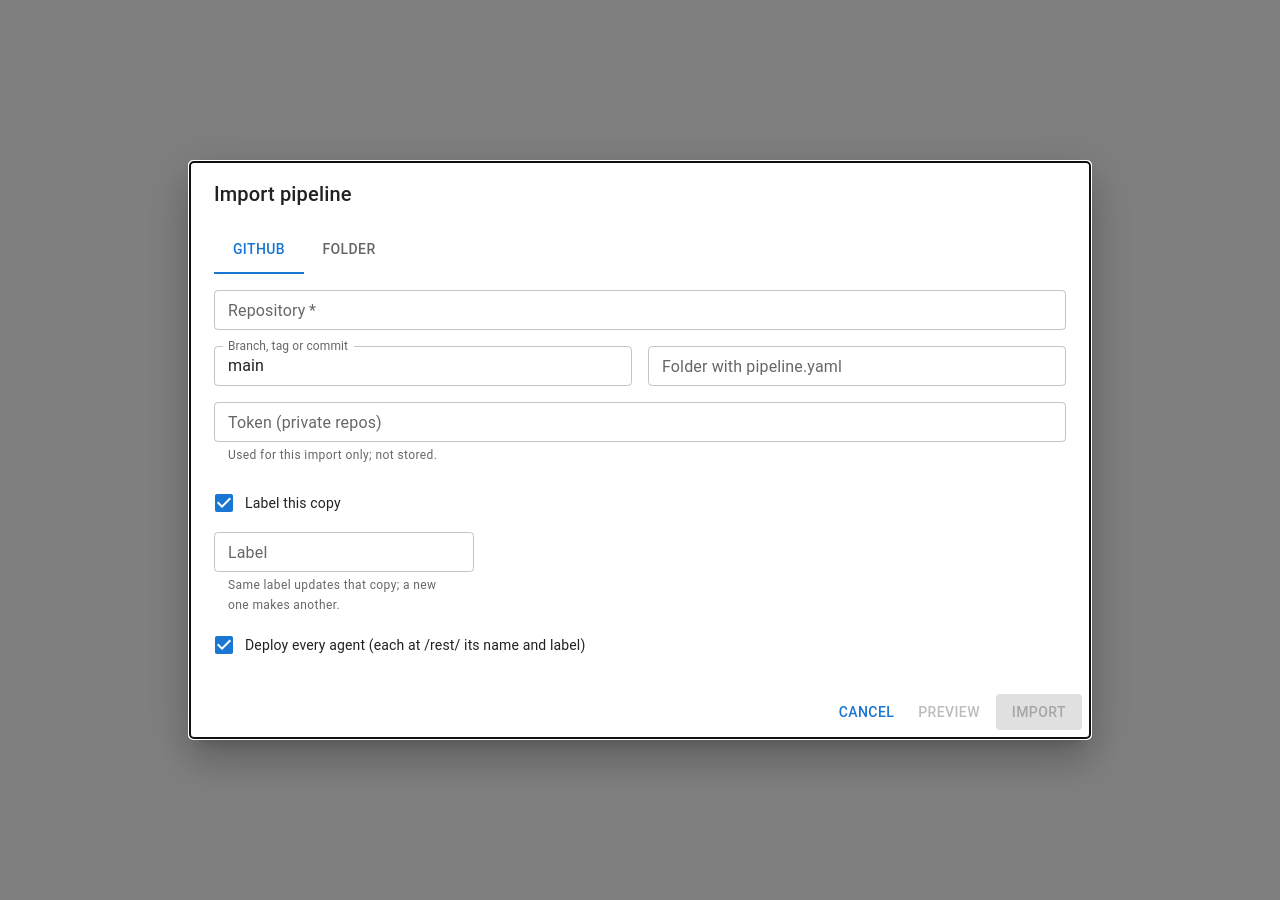
Test: PipelineImportDialog › unticking the label imports into the stable copy
Later steps or results of the test are not shown.
Expected: the checkbox labelled "Label this copy" is checked, x1=212 y1=491 x2=341 y2=515
In the field labelled "Label": [344, 552] box x1=214 y1=532 x2=474 y2=572, type "typed"
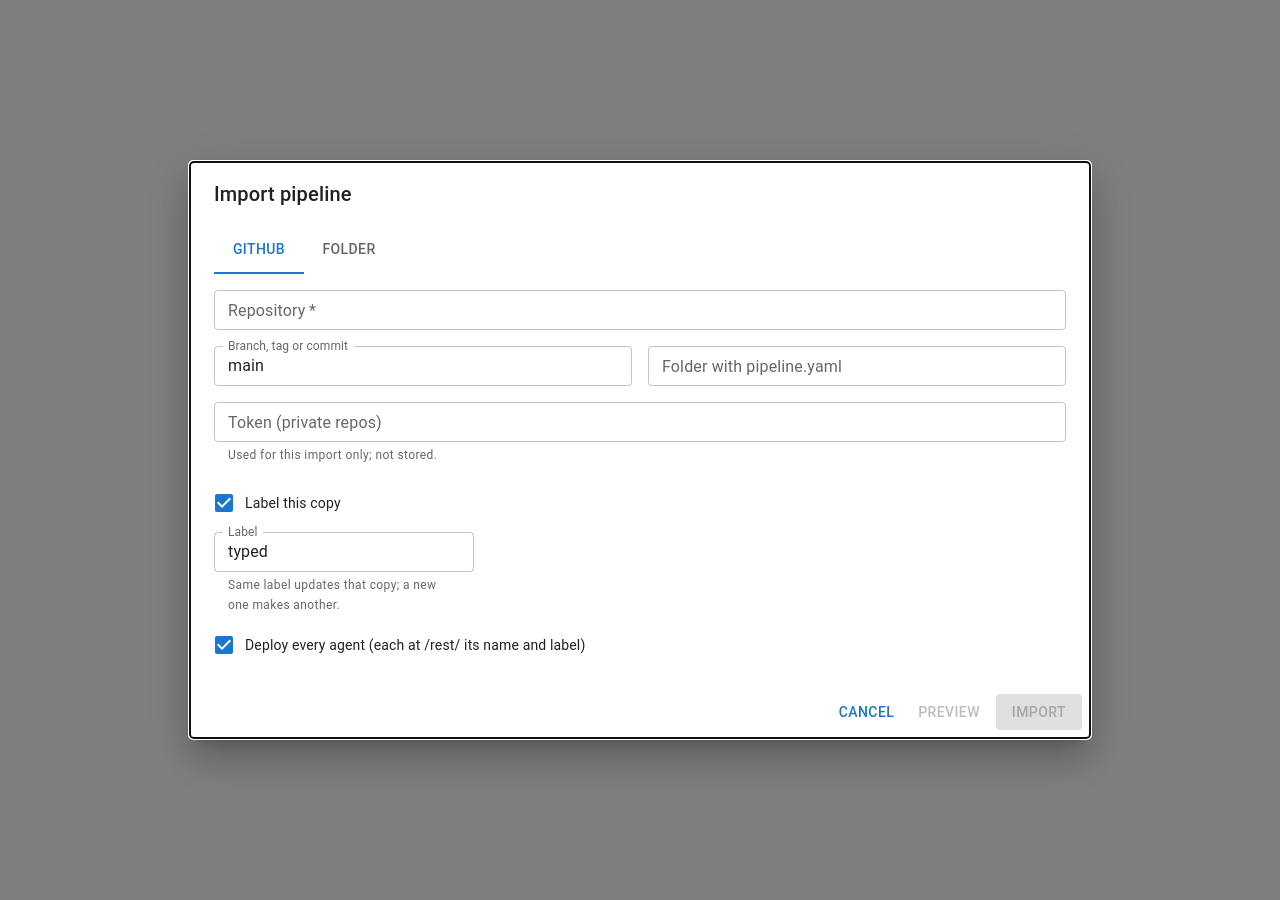
Click the checkbox labelled "Label this copy": [276, 503] box x1=212 y1=491 x2=341 y2=515
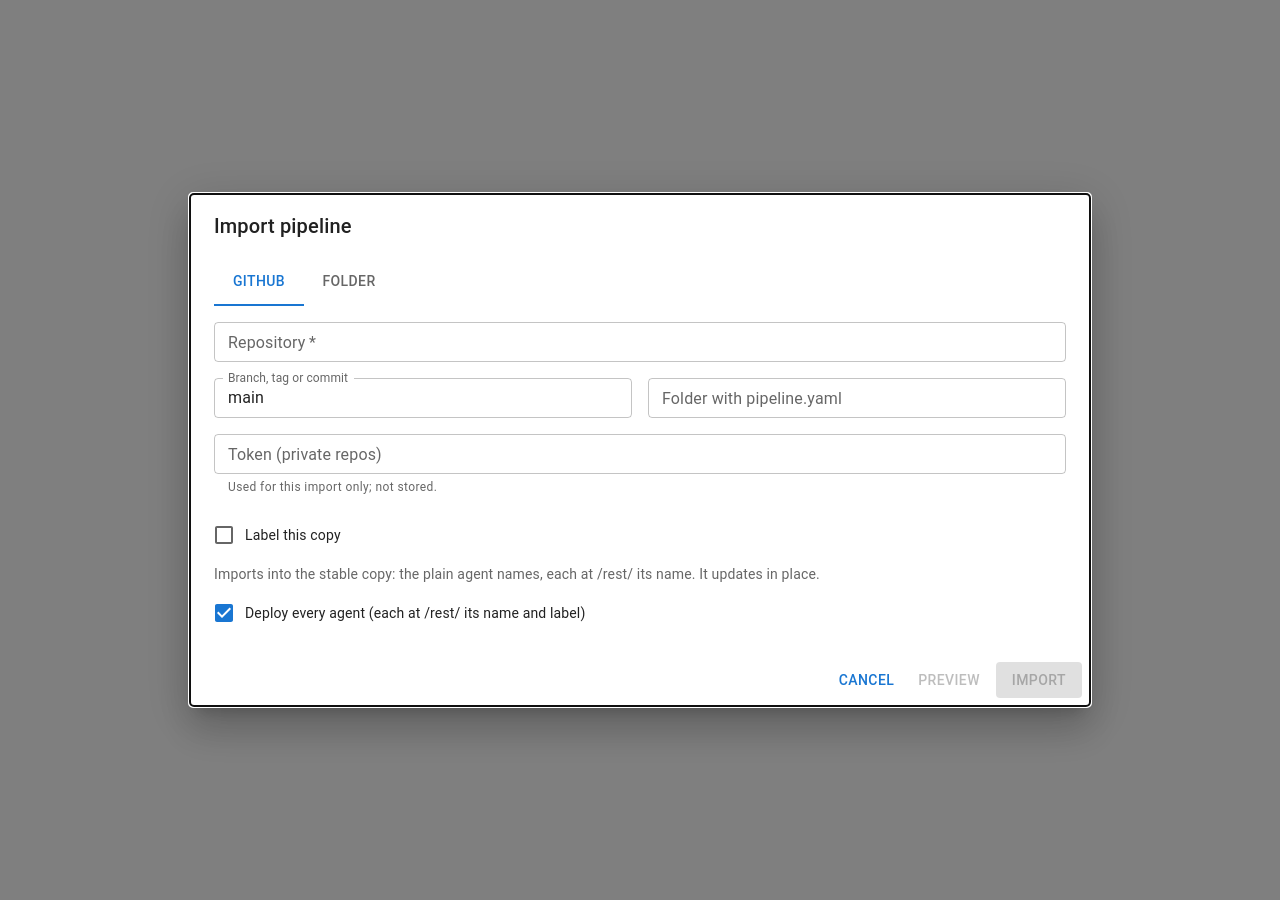
Expected: the text "Imports into the stable copy" is shown, x1=214 y1=566 x2=820 y2=582
In the field labelled "Repository *": [640, 342] box x1=214 y1=322 x2=1066 y2=362, type "a/b"
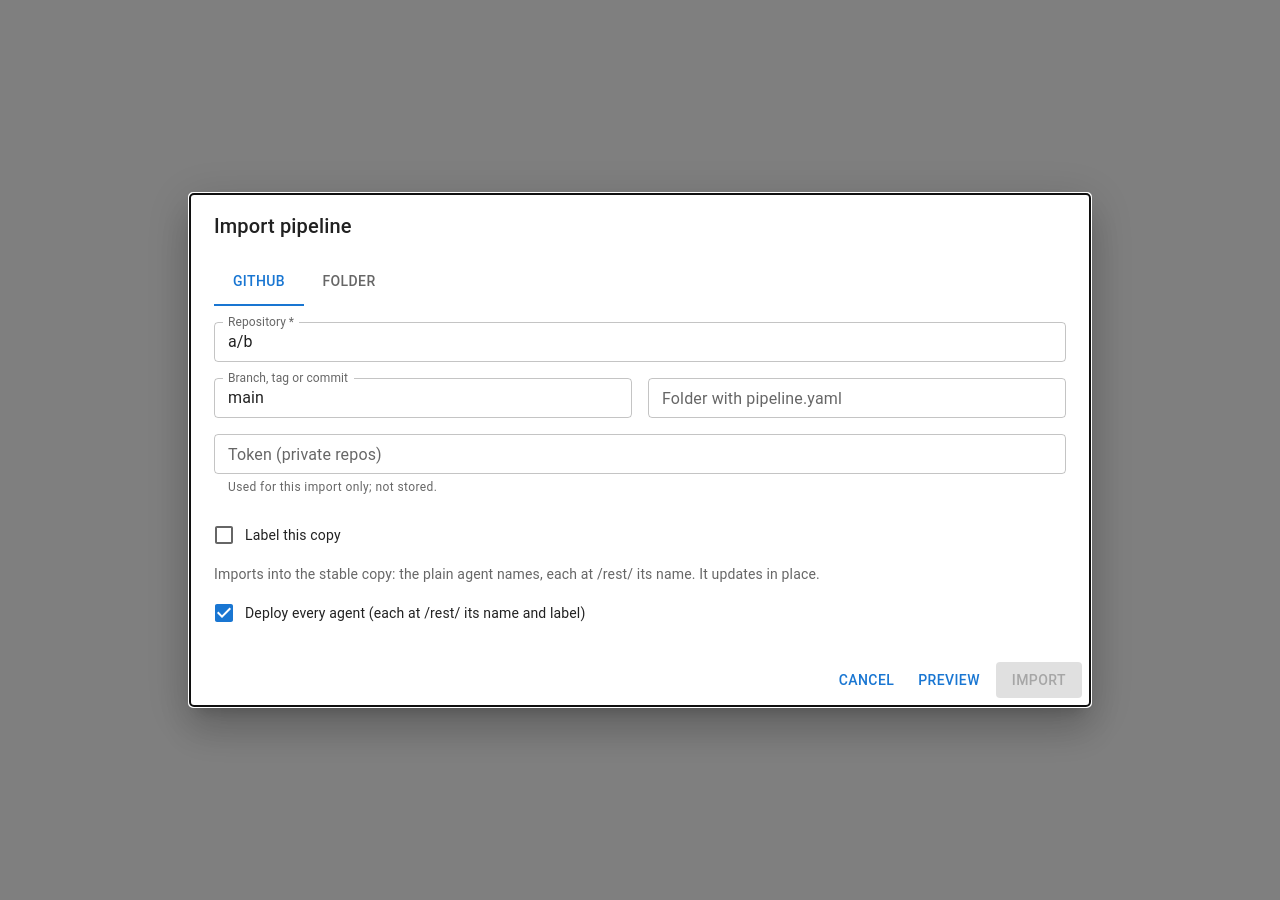
Click the button "Preview": [949, 680] box x1=910 y1=662 x2=988 y2=698
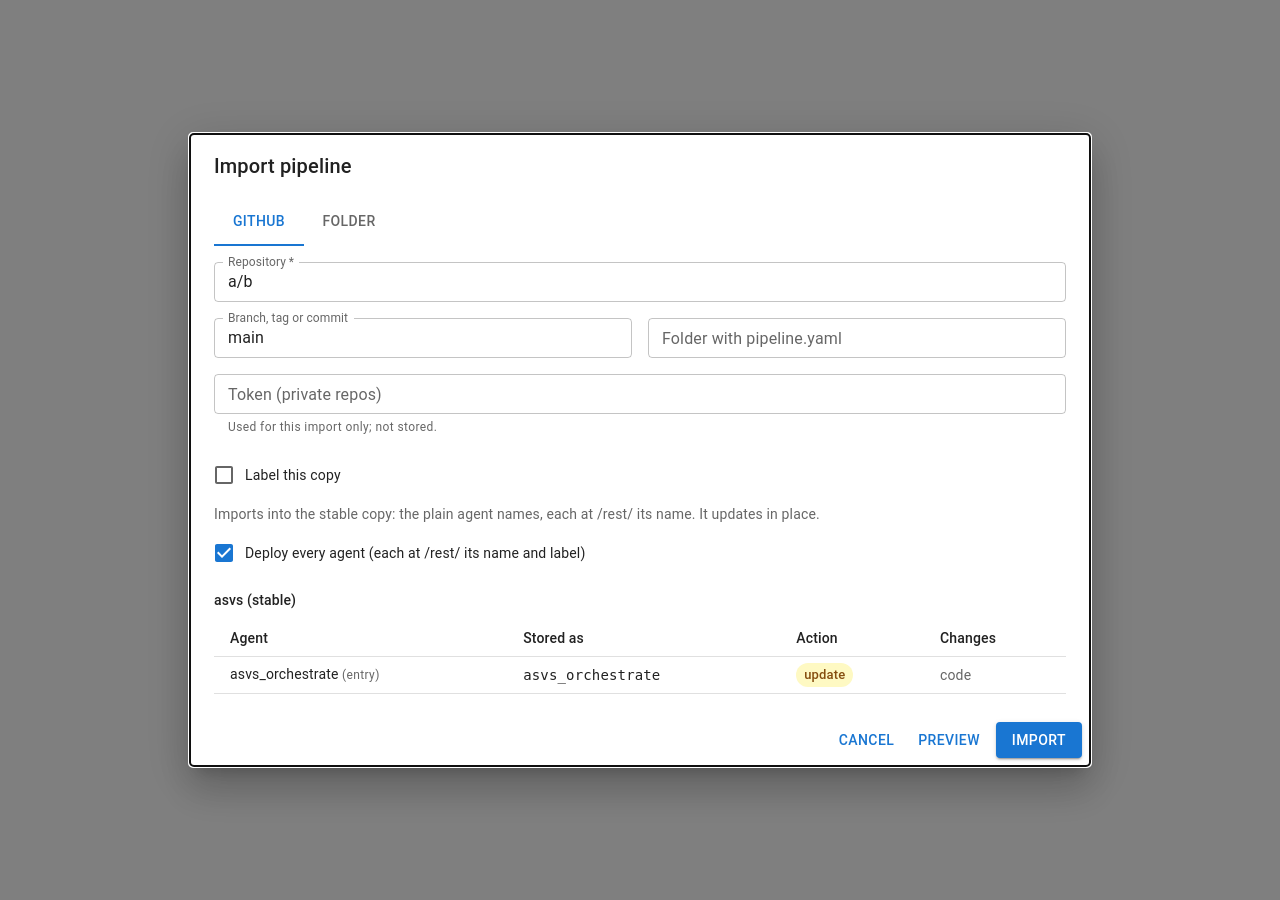
Expected: the heading "asvs (stable)" is shown, x1=214 y1=592 x2=296 y2=608
